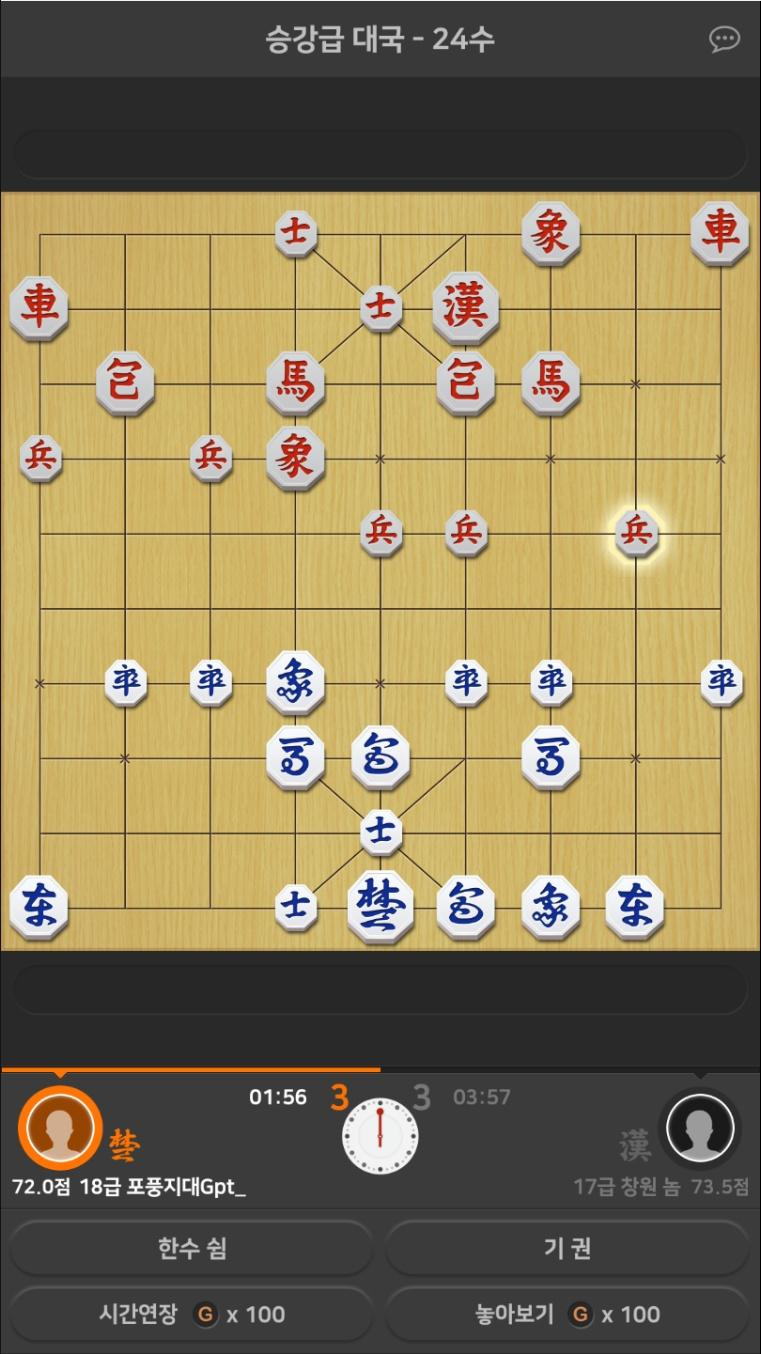cha_green: (604, 874, 669, 938), (8, 873, 70, 937)
cha_red: (7, 276, 68, 340), (688, 205, 748, 263)
jol_green: (700, 659, 745, 707), (445, 658, 488, 708), (530, 660, 573, 708), (191, 656, 231, 707), (104, 661, 147, 704)
jol_red: (616, 507, 657, 558), (191, 435, 232, 485), (21, 435, 62, 485), (446, 509, 486, 557), (363, 510, 402, 559)
ma_green: (521, 726, 582, 790), (266, 726, 324, 790)
ma_red: (522, 352, 580, 416), (267, 350, 322, 415)
po_green: (349, 726, 410, 792), (434, 873, 495, 937)
po_red: (97, 352, 155, 418), (439, 353, 495, 414)
sa_green: (272, 884, 317, 932), (359, 806, 402, 855)
sa_red: (276, 209, 316, 257), (362, 286, 402, 333)
sang_green: (267, 652, 327, 715), (523, 874, 580, 939)
sang_red: (518, 204, 582, 260), (267, 426, 321, 492)
wang_green: (348, 873, 410, 945)
wang_red: (429, 271, 499, 343)
